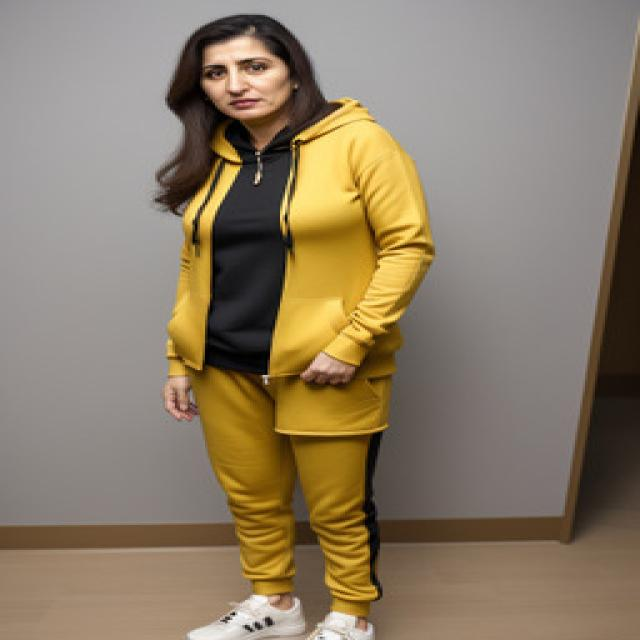Ai human 2: (137, 9, 447, 640)
